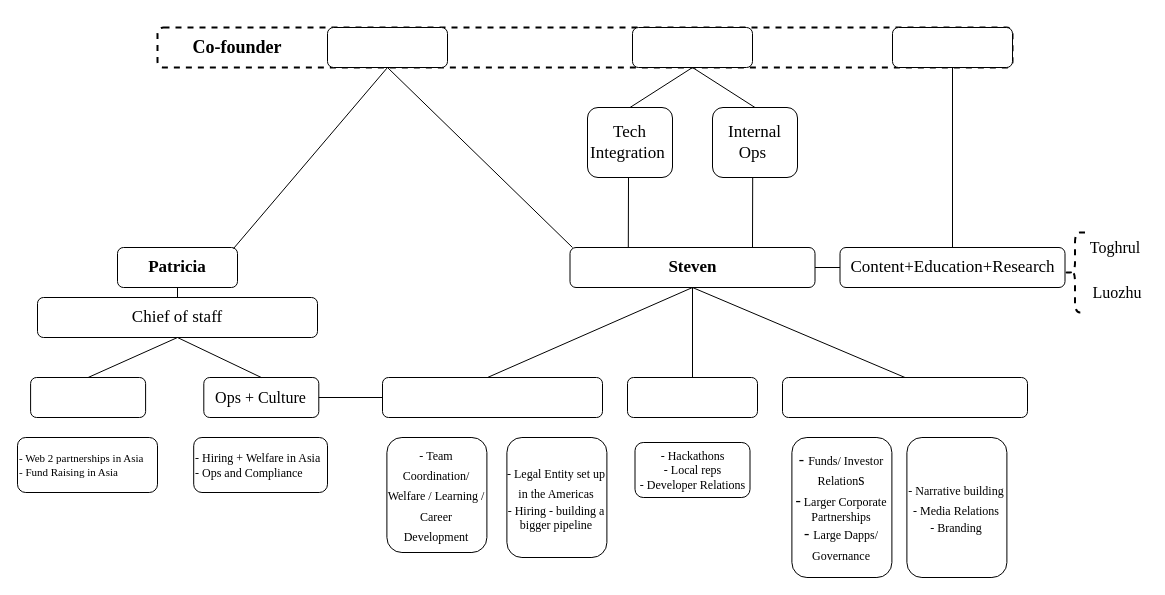
Some shapes in this 1165 by 595 pixel diagram are drawn without their labels. Each missing label, with the centre of its shape:
"BD+Partnerships" belongs at point (905, 397).
"CEO-Sandy" belongs at point (387, 47).
"Community Team" belongs at point (692, 397).
"CRO-YeZhang" belongs at point (952, 47).
"CTO-Haichen" belongs at point (692, 47).
"Ops" belongs at point (492, 397).
"Partnerships" belongs at point (88, 397).
